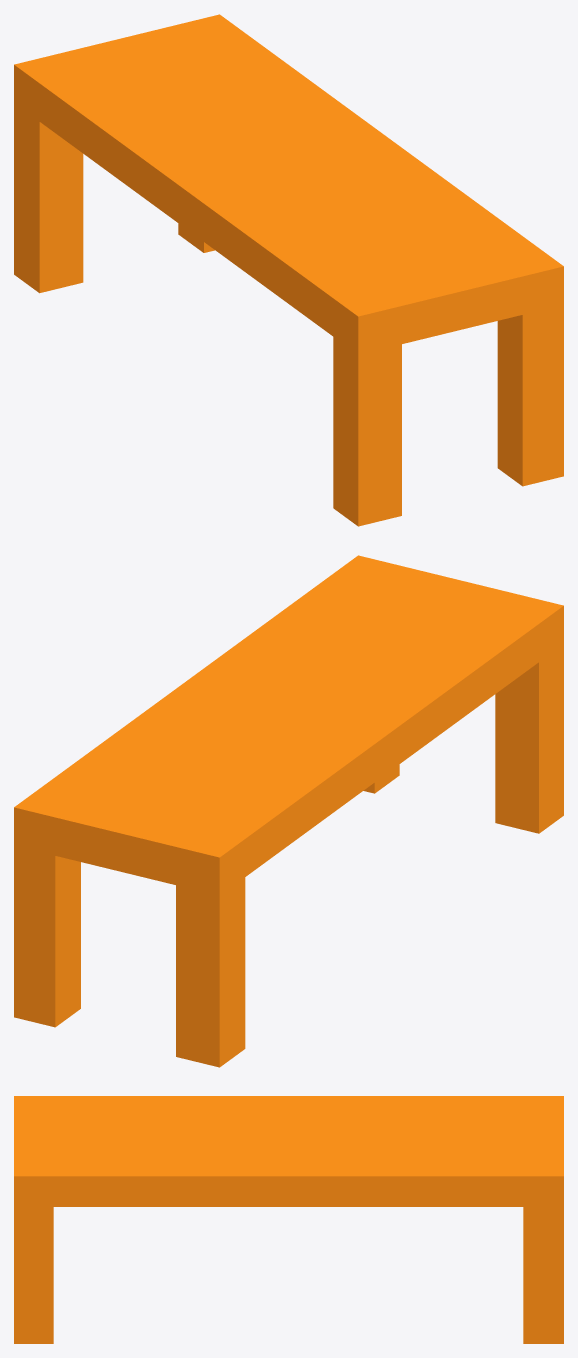
File: TVTable.fbx
3 views of the same model, one above another, from view 1: azimuth 30°, elevation 25°; view 2: azimuth 150°, elevation 25°; view 3: azimuth 270°, elevation 25° (orthographic). The views are drawn at different scales.
Visible parts, largest first — view 1: Cube_5; view 2: Cube_5; view 3: Cube_5.
Boxes of the visible parts, x1,y1,x2,y2 form: Cube_5: (14, 14, 563, 526); Cube_5: (14, 555, 563, 1067); Cube_5: (14, 1096, 563, 1343).
Size of the model in its own units: 200 by 195 by 580.
